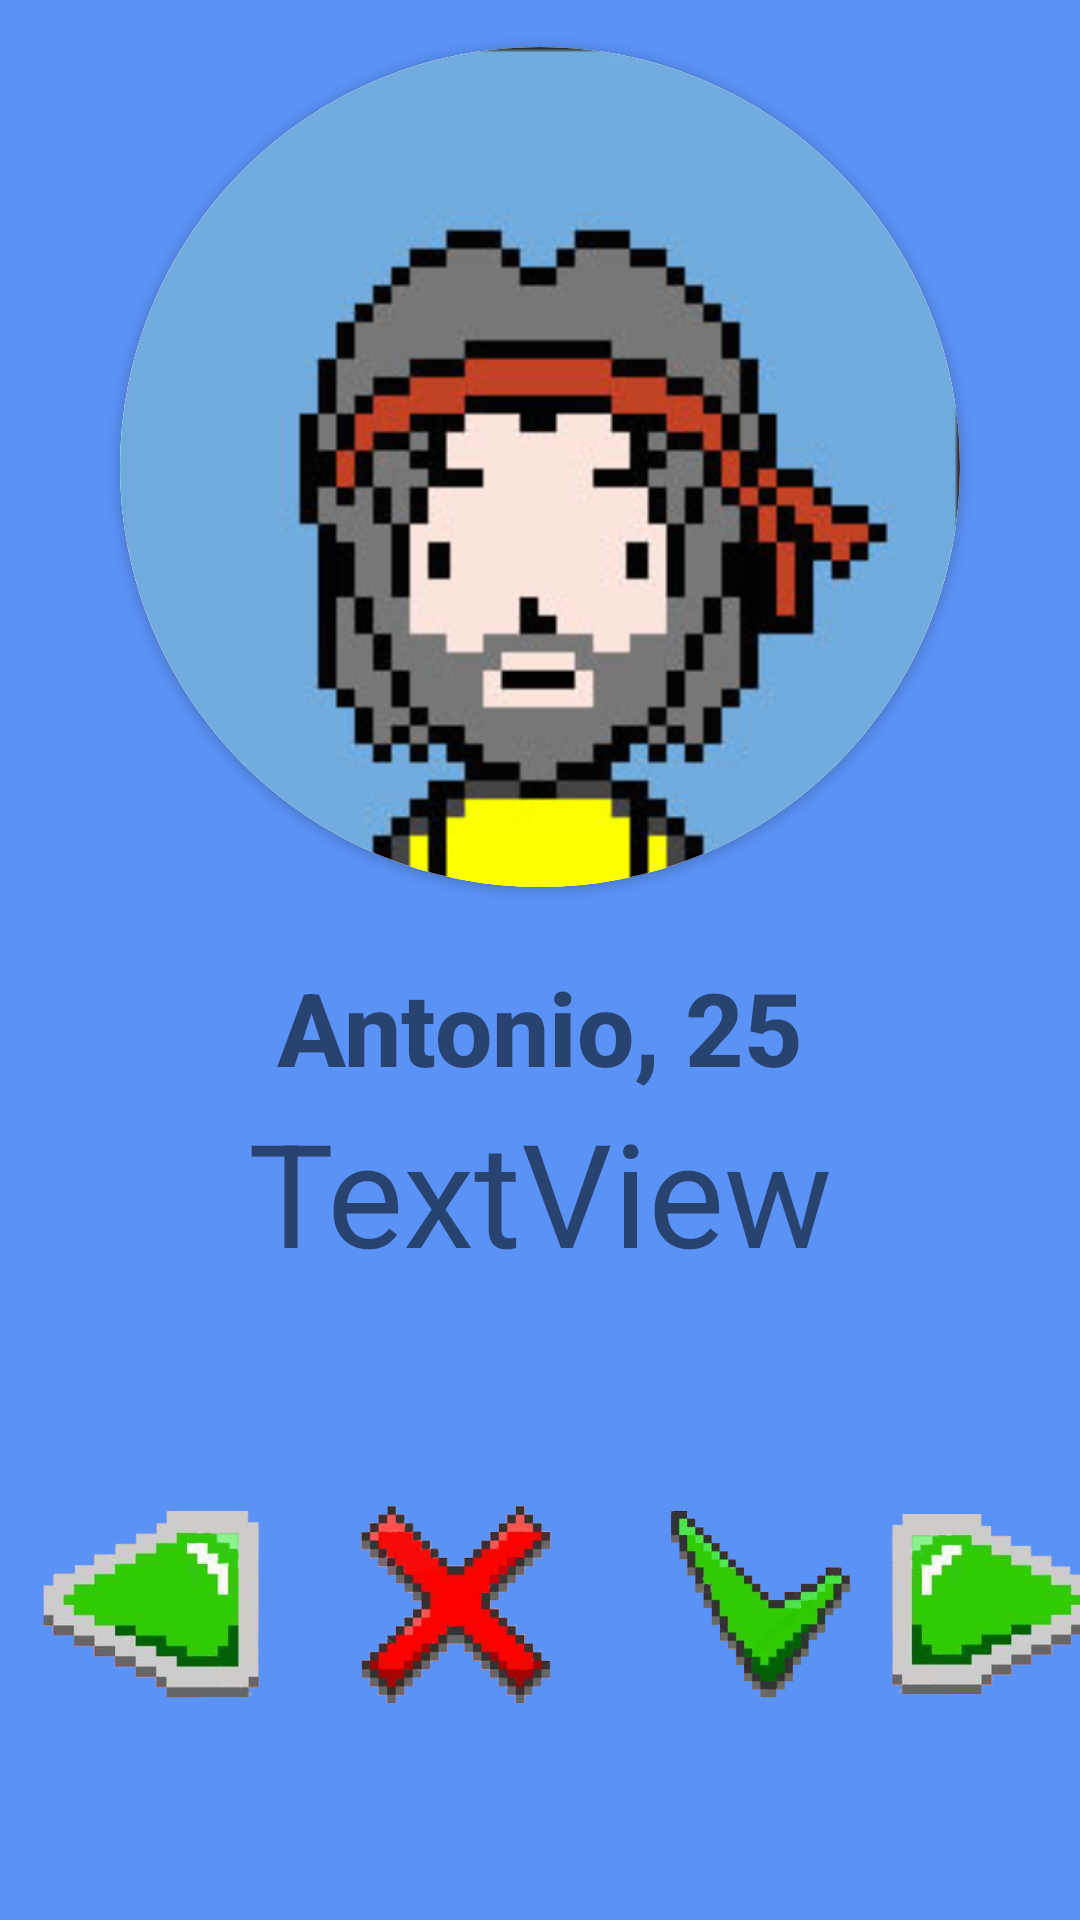

Screen size 1080 x 1920. Icon name, then its box in pixels as (x1, y1, x2, y2):
check: (671, 1511, 899, 1697)
equis: (361, 1505, 551, 1703)
flecha izq: (43, 1511, 259, 1697)
